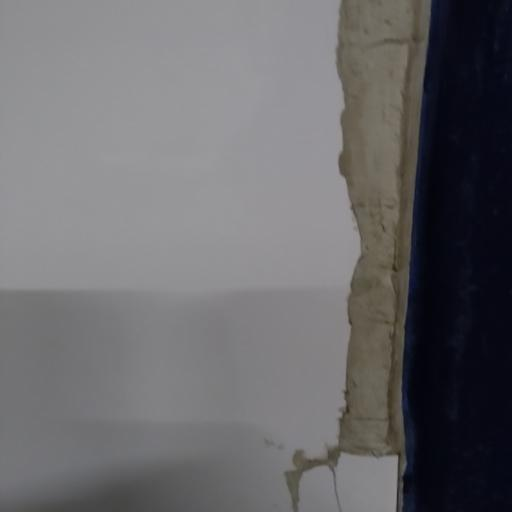spalling: (322, 0, 512, 501)
